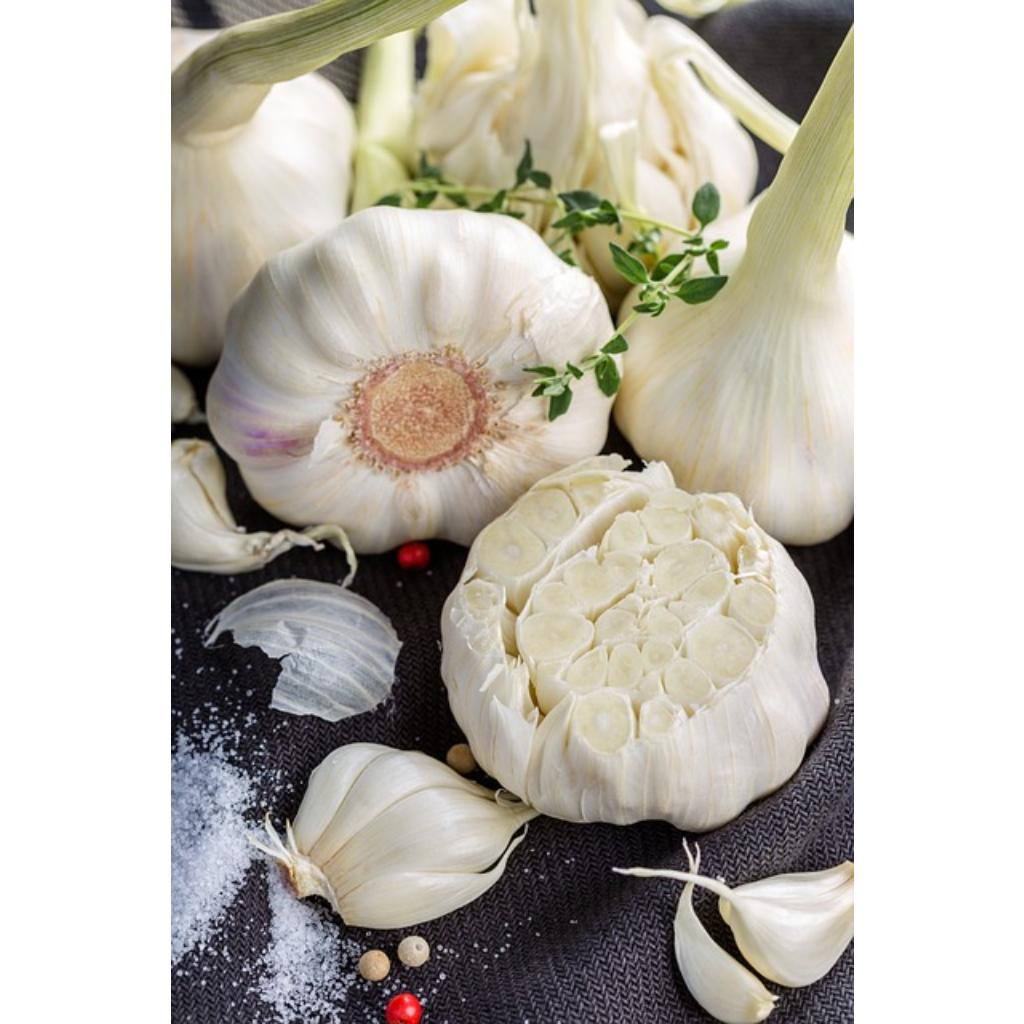garlic: (442, 456, 826, 829), (206, 210, 612, 553), (614, 32, 852, 543), (170, 0, 457, 364), (414, 0, 794, 227), (252, 744, 536, 927)
